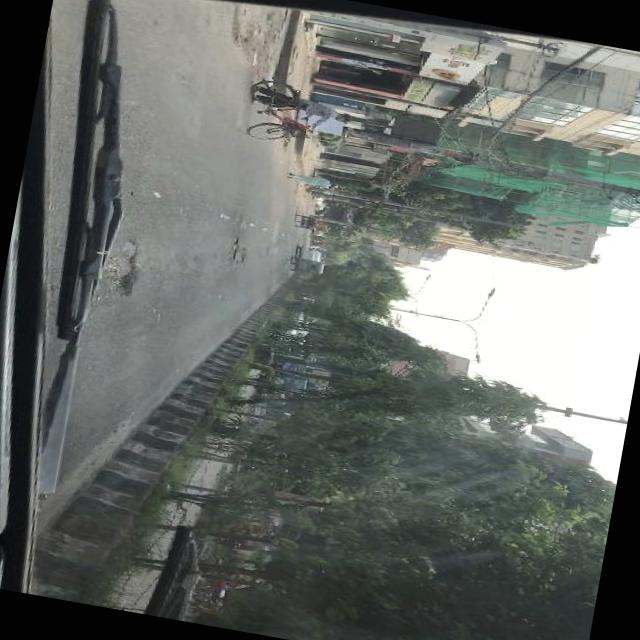car: (274, 317, 312, 348), (311, 186, 337, 212), (297, 243, 322, 260)
motorcycle: (174, 548, 268, 627), (193, 499, 279, 553), (293, 254, 325, 274)
truck: (266, 356, 312, 396)
